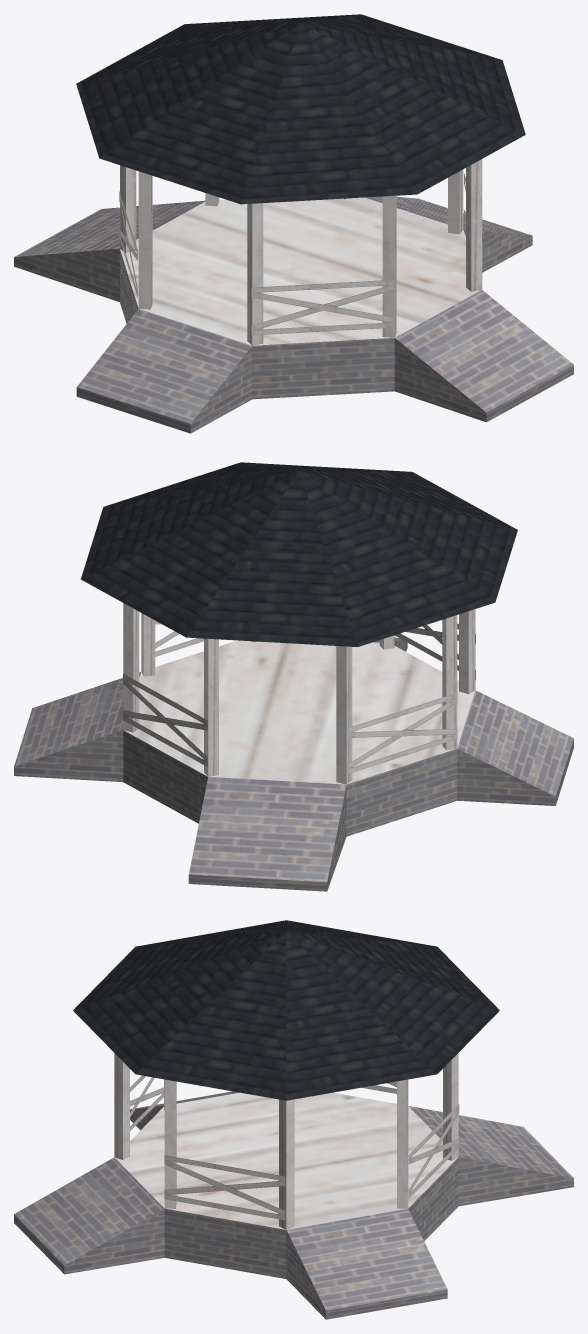
The model's file is Gazebo.fbx.
3 renders of one model, top to bottom at view 1: azimuth 30°, elevation 25°; view 2: azimuth 150°, elevation 25°; view 3: azimuth 270°, elevation 25°, orthographic. The views are drawn at different scales.
Parts seen in each view (by area): view 1: pCylinder2, pCone1, pPlane14, pCube59, pCube53, pCube58, pCube56, pCube54, pCube60, pPlane11; view 2: pCylinder2, pCone1, pPlane11, pCube54, pPlane13, pCube57, pCube58, pCube55, pCube59, pCube60, pPlane14; view 3: pCylinder2, pCone1, pPlane12, pCube60, pCube56, pCube55, pCube53, pCube57, pPlane13, pPlane14.
Part boxes in pixels (x1,y1,x2,y2): pCylinder2: (14,196,573,433); pCone1: (76,14,525,204); pPlane14: (251,279,393,335); pCube59: (247,203,263,345); pCube53: (466,159,482,291); pCube58: (138,171,152,309); pCube56: (382,195,396,337); pCube54: (120,165,136,252); pCube60: (448,169,463,234); pPlane11: (119,191,137,296); pCylinder2: (14,637,573,891); pCone1: (80,462,517,646); pPlane11: (347,692,457,774); pCube54: (336,646,352,784); pPlane13: (123,674,207,766); pCube57: (204,638,218,776); pCube58: (442,615,457,750); pCube55: (123,603,139,732); pCube59: (459,609,475,694); pCube60: (141,613,155,676); pPlane14: (395,623,475,680); pCylinder2: (14,1091,573,1319); pCone1: (73,920,499,1100); pPlane12: (164,1155,285,1220); pCube60: (279,1099,294,1229); pCube56: (114,1053,129,1159); pCube55: (397,1079,408,1208); pCube53: (164,1079,176,1208); pCube57: (443,1053,458,1160); pPlane13: (408,1104,459,1198); pPlane14: (130,1075,163,1130).
Size of the model in its own units: 15.89 by 9.15 by 16.9.
